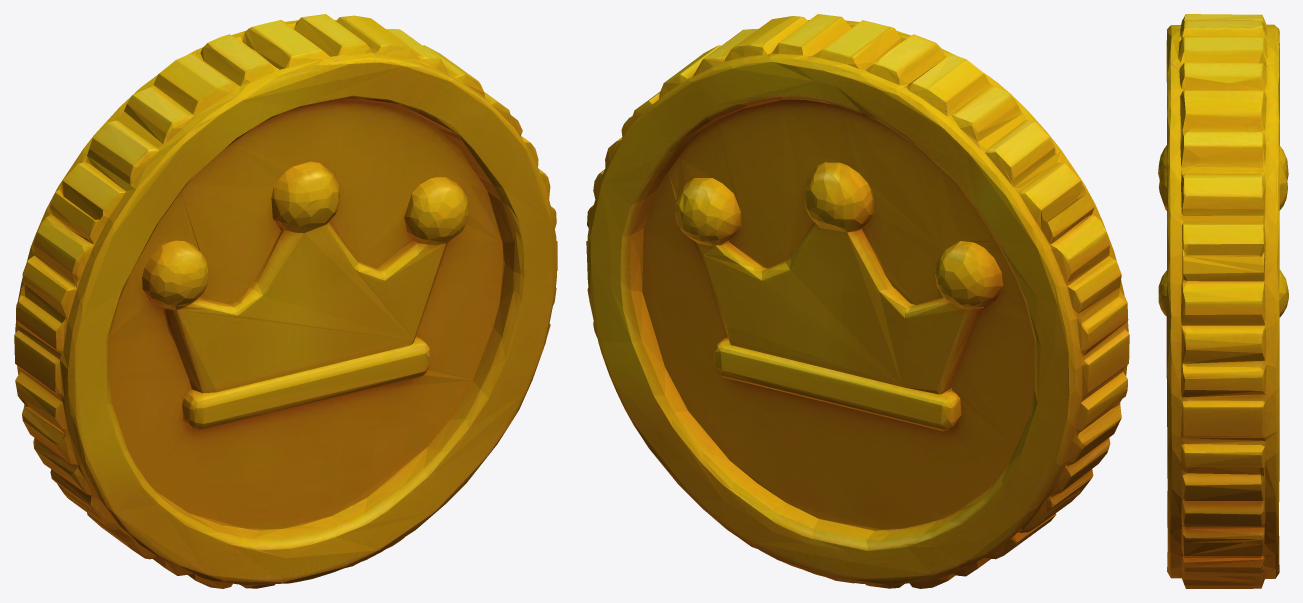
The model's file is piece.glb.
3 renders of one model, left to right at view 1: azimuth 30°, elevation 25°; view 2: azimuth 150°, elevation 25°; view 3: azimuth 270°, elevation 25°, orthographic. The views are drawn at different scales.
Parts seen in each view (by area): view 1: geometry_0; view 2: geometry_0; view 3: geometry_0.
Boxes of the visible parts, left/top/right/bottom form: geometry_0: left=14, top=14, right=557, bottom=588; geometry_0: left=586, top=14, right=1129, bottom=588; geometry_0: left=1158, top=14, right=1288, bottom=588.
Bounding box in the file's own units: 0.9964 × 0.9985 × 0.23.
1 material, 1 textured.
